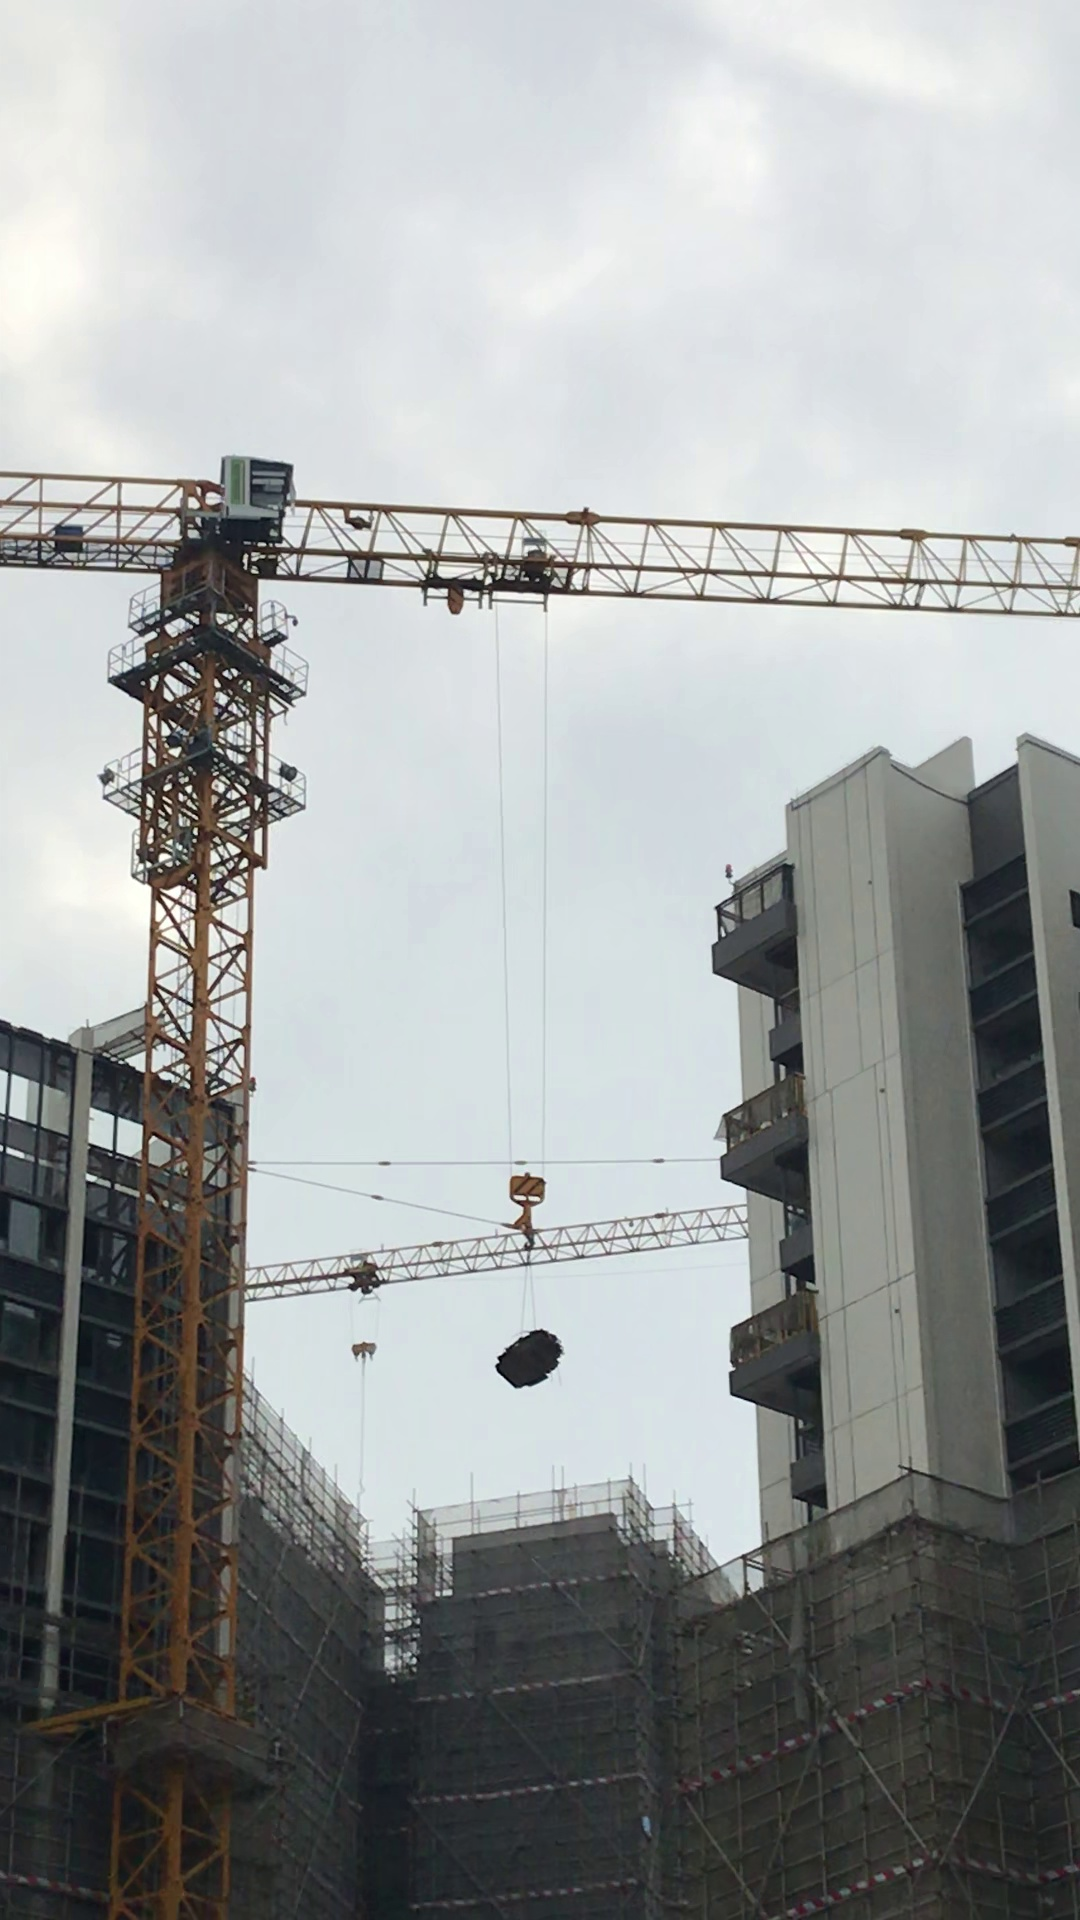board: (489, 1327, 567, 1398)
hook: (505, 1174, 553, 1245), (349, 1338, 384, 1358)
